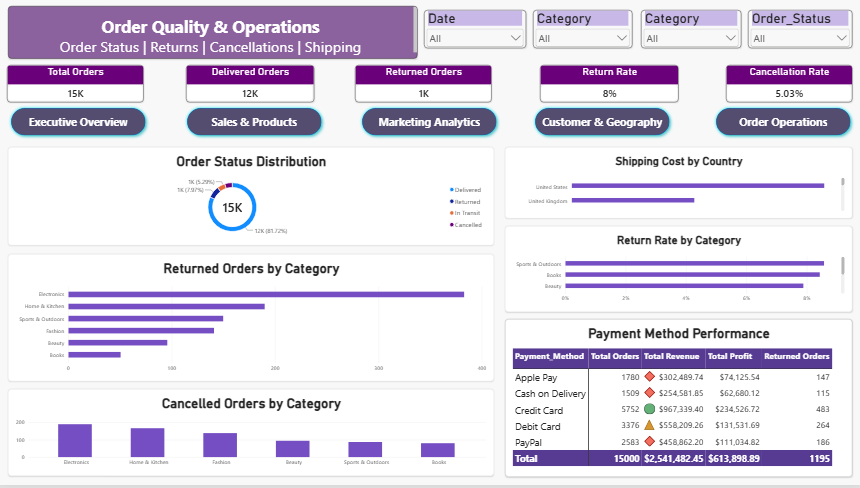

The page's visual inventory and layout, read from the dashboard file:
{"tool":"powerbi","page":{"name":"05 Order Quality & Operations","canvas":[1920,1080],"ordinal":4},"visuals":[{"type":"textbox","box":[21.3,14.9,909.9,116.9],"z":0},{"type":"donutChart","title":"Order Status Distribution","fields":{"Category":["ecommerce_analytics_dataset.Order_Status"],"Y":["ecommerce_analytics_dataset.Total Orders"]},"box":[21.3,329.5,1080,219],"z":1},{"type":"clusteredBarChart","title":"Returned Orders by Category","fields":{"Category":["ecommerce_analytics_dataset.Category"],"Y":["ecommerce_analytics_dataset.Revenue per Order"]},"box":[21.3,567.6,1080,282.8],"z":2},{"type":"clusteredColumnChart","title":"Cancelled Orders by Category","fields":{"Category":["ecommerce_analytics_dataset.Category"],"Y":["ecommerce_analytics_dataset.Cancelled Orders"]},"box":[21.3,867.4,1080,193.5],"z":3},{"type":"clusteredBarChart","title":"Return Rate by Category","fields":{"Category":["ecommerce_analytics_dataset.Category"],"Y":["ecommerce_analytics_dataset.Return Rate %"]},"box":[1126.8,503.9,771.7,191.3],"z":4},{"type":"clusteredBarChart","title":"Shipping Cost by Country","fields":{"Category":["ecommerce_analytics_dataset.Country"],"Y":["ecommerce_analytics_dataset.Total Shipping Cost"]},"box":[1126.8,329.5,771.7,159.4],"z":5},{"type":"pivotTable","title":"Payment Method Performance","fields":{"Rows":["ecommerce_analytics_dataset.Payment_Method"],"Values":["ecommerce_analytics_dataset.Total Orders","ecommerce_analytics_dataset.Total Revenue","ecommerce_analytics_dataset.Total Profit","ecommerce_analytics_dataset.Returned Orders"]},"box":[1126.8,710.1,771.7,350.8],"z":6},{"type":"slicer","fields":{"Values":["DateTable.Date"]},"box":[946.1,23.4,227.5,85],"z":7},{"type":"slicer","fields":{"Values":["ecommerce_analytics_dataset.Category"]},"box":[1188.4,23.4,221.1,85],"z":8},{"type":"slicer","fields":{"Values":["ecommerce_analytics_dataset.Category"]},"box":[1428.7,23.4,223.2,85],"z":10},{"type":"slicer","fields":{"Values":["ecommerce_analytics_dataset.Order_Status"]},"box":[1666.8,23.4,231.7,85],"z":11},{"type":"cardVisual","title":"Total Orders","fields":{"Data":["ecommerce_analytics_dataset.Total Orders"]},"box":[19.1,146.7,304,82.9],"z":12},{"type":"cardVisual","title":"Delivered Orders","fields":{"Data":["ecommerce_analytics_dataset.Delivered Orders"]},"box":[418.8,146.7,284.9,82.9],"z":13},{"type":"cardVisual","title":"Returned Orders","fields":{"Data":["ecommerce_analytics_dataset.Returned Orders"]},"box":[793,146.7,304,82.9],"z":14},{"type":"cardVisual","title":"Return Rate","fields":{"Data":["ecommerce_analytics_dataset.Return Rate %"]},"box":[1205.4,146.7,308.3,82.9],"z":15},{"type":"cardVisual","title":"Cancellation Rate","fields":{"Data":["ecommerce_analytics_dataset.Cancellation Rate %"]},"box":[1617.9,146.7,280.6,82.9],"z":16},{"type":"shape","box":[19.1,233.5,316.8,78.7],"z":17},{"type":"shape","box":[410.3,233.5,316.8,78.7],"z":18},{"type":"shape","box":[799.4,233.5,316.8,78.7],"z":19},{"type":"shape","box":[1184.2,233.5,316.8,78.7],"z":20},{"type":"shape","box":[1586,233.5,316.8,78.7],"z":21}]}

Visuals, with their boxes in screenshot pixels (x1, y1, x2, y2), scaled from the page's 1920x1080 canvas onto the 860x488 screenshot:
textbox: box=[10, 7, 417, 60]
"Order Status Distribution" donutChart: box=[10, 149, 493, 248]
"Returned Orders by Category" clusteredBarChart: box=[10, 256, 493, 384]
"Cancelled Orders by Category" clusteredColumnChart: box=[10, 392, 493, 479]
"Return Rate by Category" clusteredBarChart: box=[505, 228, 850, 314]
"Shipping Cost by Country" clusteredBarChart: box=[505, 149, 850, 221]
"Payment Method Performance" pivotTable: box=[505, 321, 850, 479]
slicer - DateTable.Date: box=[424, 11, 526, 49]
slicer - ecommerce_analytics_dataset.Category: box=[532, 11, 631, 49]
slicer - ecommerce_analytics_dataset.Category: box=[640, 11, 740, 49]
slicer - ecommerce_analytics_dataset.Order_Status: box=[747, 11, 850, 49]
"Total Orders" cardVisual: box=[9, 66, 145, 104]
"Delivered Orders" cardVisual: box=[188, 66, 315, 104]
"Returned Orders" cardVisual: box=[355, 66, 491, 104]
"Return Rate" cardVisual: box=[540, 66, 678, 104]
"Cancellation Rate" cardVisual: box=[725, 66, 850, 104]
shape: box=[9, 106, 150, 141]
shape: box=[184, 106, 326, 141]
shape: box=[358, 106, 500, 141]
shape: box=[530, 106, 672, 141]
shape: box=[710, 106, 852, 141]
